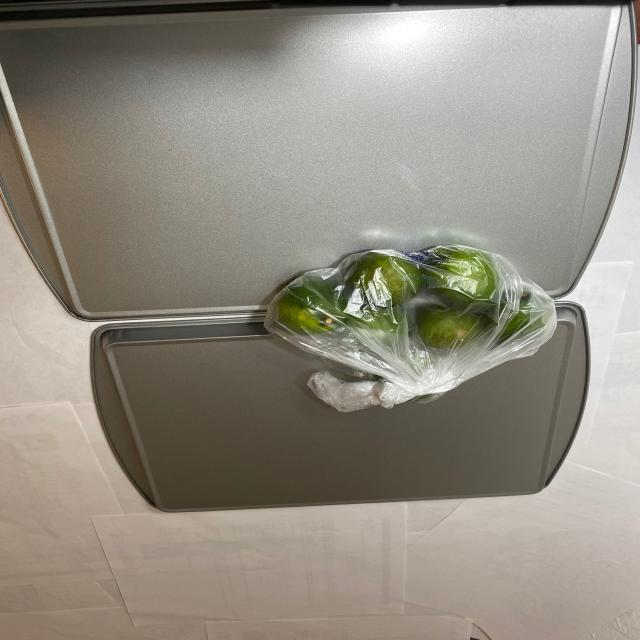lemon: (251, 247, 558, 354)
